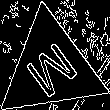M_SE: (18, 33, 83, 102)
